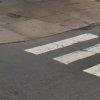Crosswalk: (24, 27, 99, 72)
